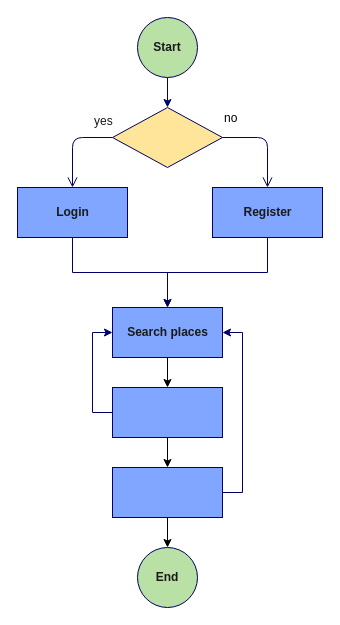
The diagram is 340 pixels wide and 625 high, and some of its shapes have lost their labels. The shapes that lost their labels are listed below. From the top down, each one's box as (x1, y1, x2, y2) in pixels, then its label:
(112, 106, 222, 168): Registered?
(112, 386, 222, 438): Review Details
(112, 466, 222, 518): Book Place
